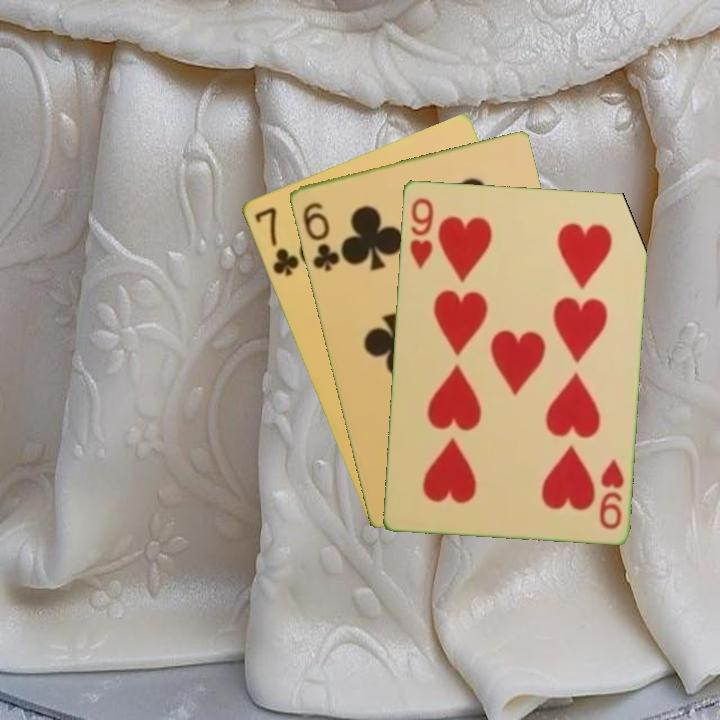6c: (299, 198, 342, 274)
7c: (250, 203, 302, 279)
9h: (405, 193, 436, 272), (595, 456, 627, 532)
